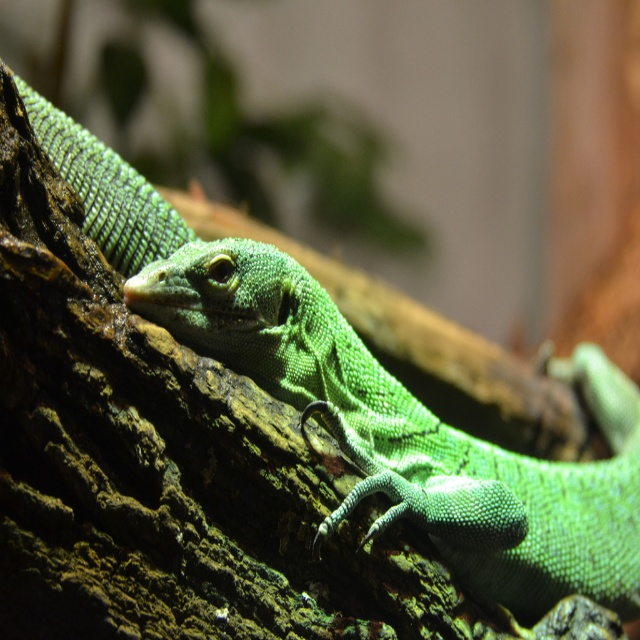Lizard: (13, 71, 640, 639)
